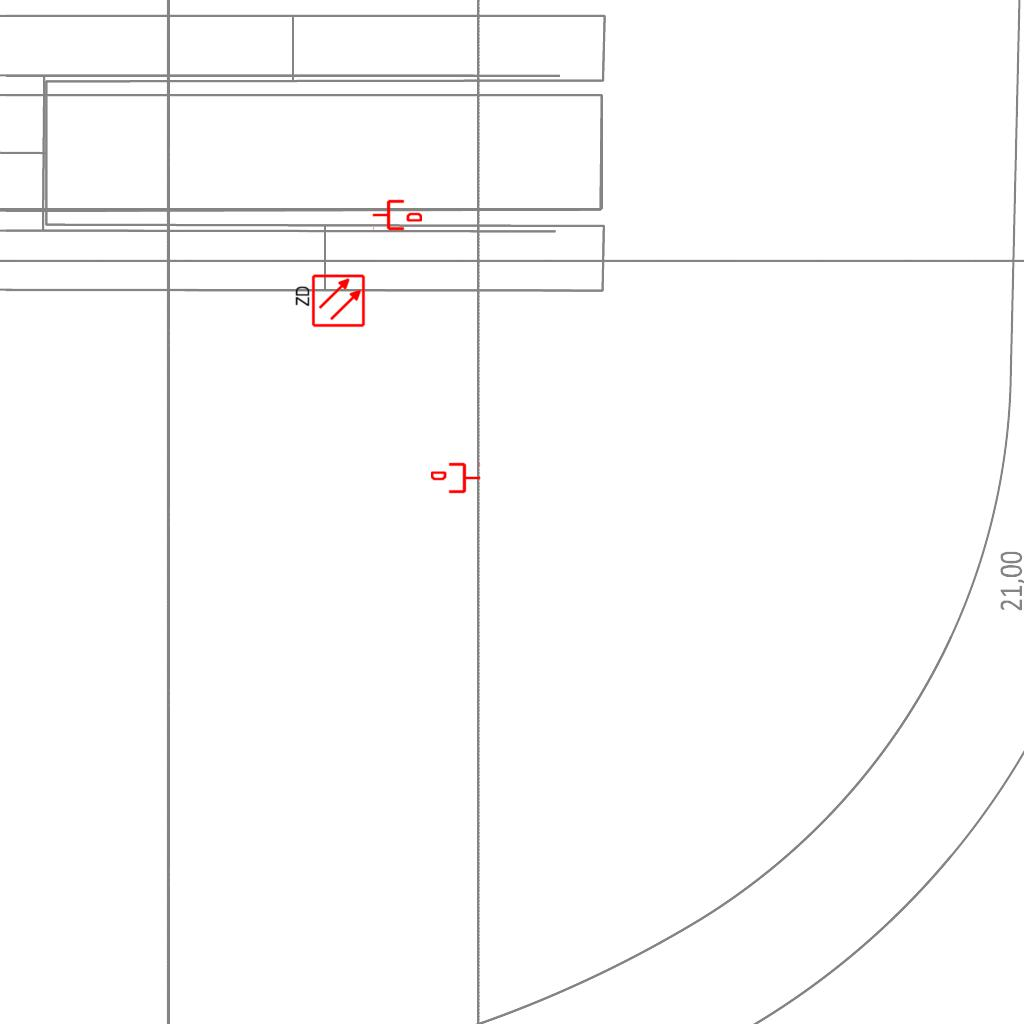Datenanschluss_einfach: (372, 198, 422, 232), (431, 461, 481, 495)
ZD_Melder_in_Zwischendecke_mit_Revisionsoeffnung_mind_40_x_40_cm: (292, 273, 366, 330)
